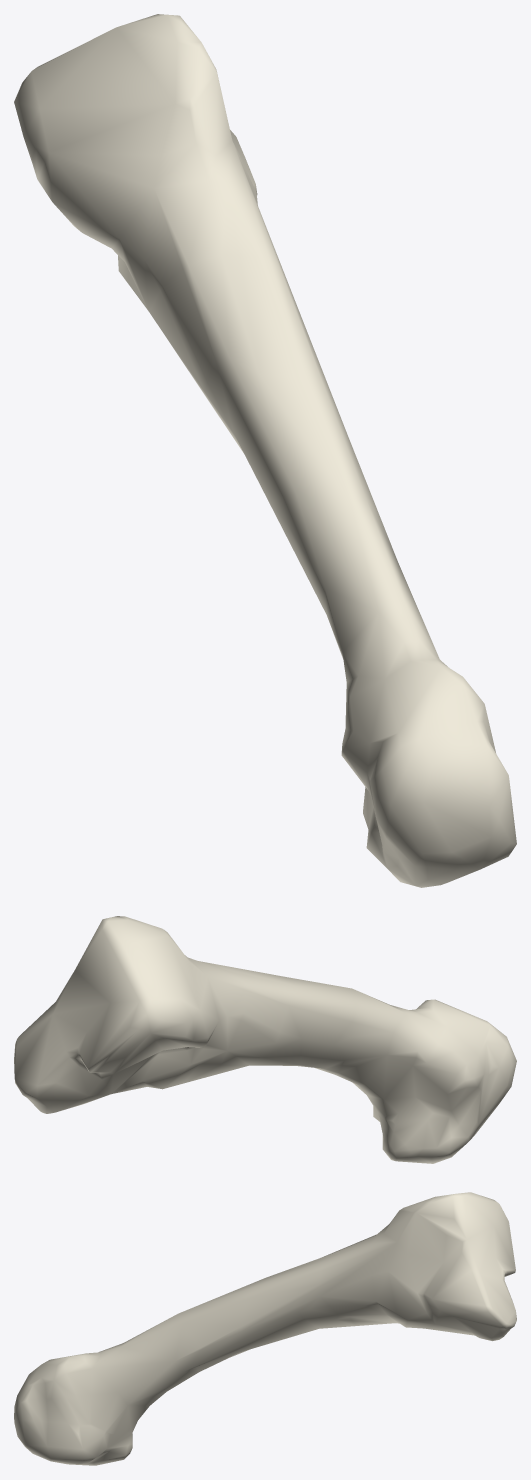
3 renders of one model, top to bottom at view 1: azimuth 30°, elevation 25°; view 2: azimuth 150°, elevation 25°; view 3: azimuth 270°, elevation 25°, orthographic. The views are drawn at different scales.
Parts seen in each view (by area): view 1: ZA_d1a9c79b5c897799; view 2: ZA_d1a9c79b5c897799; view 3: ZA_d1a9c79b5c897799.
Boxes of the visible parts, <box> form: ZA_d1a9c79b5c897799: <box>14,14,516,887</box>; ZA_d1a9c79b5c897799: <box>14,916,516,1163</box>; ZA_d1a9c79b5c897799: <box>14,1192,516,1465</box>.
Bounding box in the file's own units: 0.0231 × 0.0444 × 0.0678.
